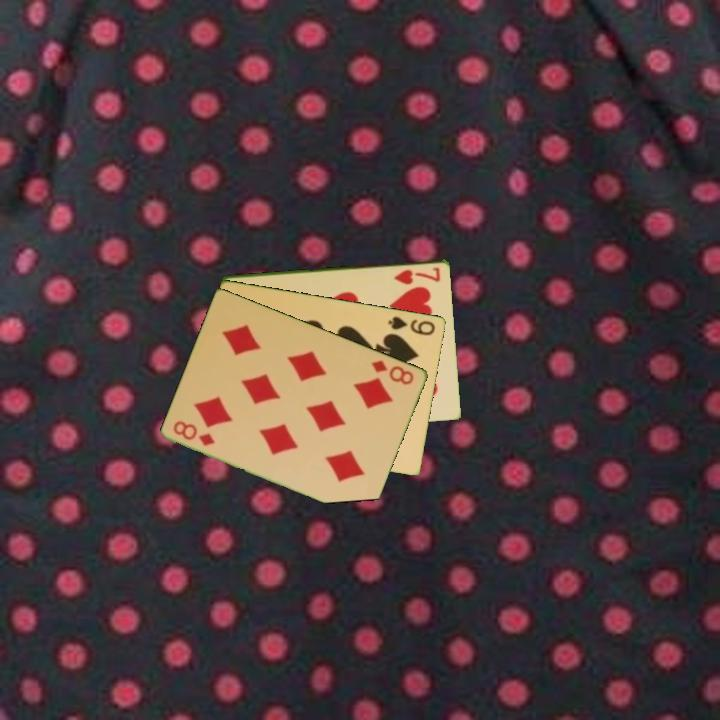7h: (391, 263, 443, 287)
8d: (368, 356, 417, 388), (170, 417, 218, 449)
9s: (385, 312, 438, 338)
